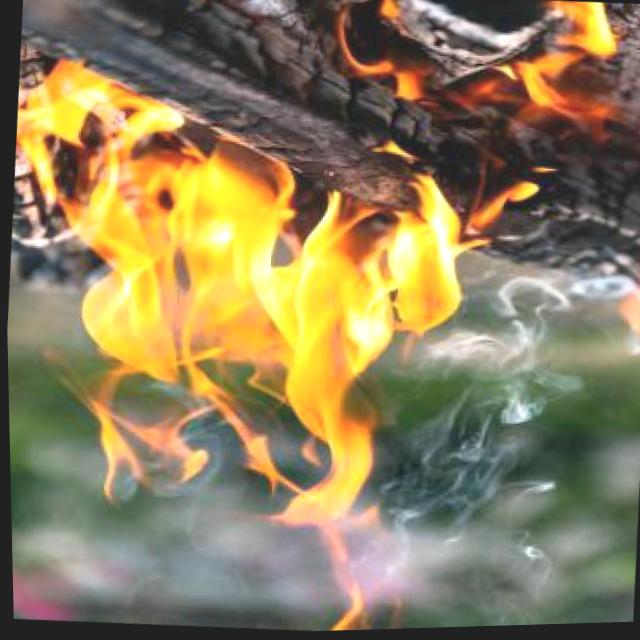helmet: (1, 32, 554, 640)
